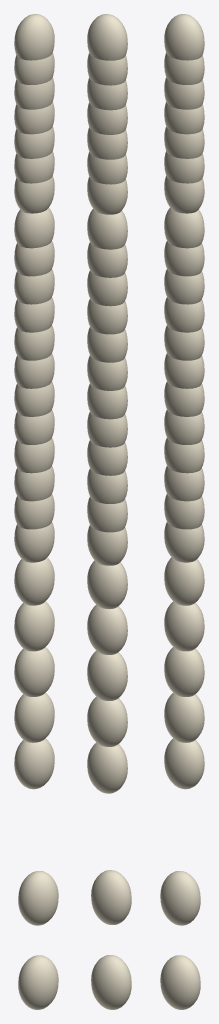
File: spine.glb
The picture shows the model from 3 angles, left to right: view 1: azimuth 30°, elevation 25°; view 2: azimuth 150°, elevation 25°; view 3: azimuth 330°, elevation 25°; orthographic projection.
Parts seen in each view (by area): view 1: dev-marker-sacrum, dev-marker-coccyx, dev-marker-l5, dev-marker-l2, dev-marker-l4, dev-marker-l3, dev-marker-c1, dev-marker-l1, dev-marker-t1, dev-marker-t12, dev-marker-c7, dev-marker-t6 (+14 smaller); view 2: dev-marker-coccyx, dev-marker-sacrum, dev-marker-l5, dev-marker-l4, dev-marker-l3, dev-marker-l2, dev-marker-c1, dev-marker-l1, dev-marker-t1, dev-marker-t12, dev-marker-c7, dev-marker-t5 (+14 smaller); view 3: dev-marker-sacrum, dev-marker-coccyx, dev-marker-l5, dev-marker-l2, dev-marker-l4, dev-marker-l3, dev-marker-c1, dev-marker-l1, dev-marker-t1, dev-marker-t12, dev-marker-c7, dev-marker-t6 (+14 smaller).
Part boxes in pixels (x1=…): dev-marker-sacrum: x1=18, y1=871, x2=58, y2=925; dev-marker-coccyx: x1=18, y1=955, x2=58, y2=1009; dev-marker-l5: x1=14, y1=738, x2=54, y2=789; dev-marker-l2: x1=14, y1=601, x2=54, y2=651; dev-marker-l4: x1=14, y1=692, x2=54, y2=742; dev-marker-l3: x1=14, y1=647, x2=54, y2=696; dev-marker-c1: x1=14, y1=14, x2=54, y2=60; dev-marker-l1: x1=14, y1=557, x2=54, y2=605; dev-marker-t1: x1=14, y1=208, x2=54, y2=248; dev-marker-t12: x1=14, y1=522, x2=54, y2=562; dev-marker-c7: x1=14, y1=176, x2=54, y2=213; dev-marker-t6: x1=14, y1=353, x2=54, y2=388; dev-marker-coccyx: x1=91, y1=955, x2=131, y2=1009; dev-marker-sacrum: x1=91, y1=870, x2=131, y2=924; dev-marker-l5: x1=87, y1=742, x2=127, y2=793; dev-marker-l4: x1=87, y1=696, x2=127, y2=746; dev-marker-l3: x1=87, y1=650, x2=127, y2=700; dev-marker-l2: x1=87, y1=604, x2=127, y2=654; dev-marker-c1: x1=87, y1=14, x2=127, y2=60; dev-marker-l1: x1=87, y1=560, x2=127, y2=609; dev-marker-t1: x1=87, y1=209, x2=127, y2=249; dev-marker-t12: x1=87, y1=525, x2=127, y2=565; dev-marker-c7: x1=87, y1=177, x2=127, y2=214; dev-marker-t5: x1=87, y1=327, x2=127, y2=362; dev-marker-sacrum: x1=160, y1=871, x2=200, y2=925; dev-marker-coccyx: x1=160, y1=955, x2=200, y2=1009; dev-marker-l5: x1=164, y1=738, x2=204, y2=789; dev-marker-l2: x1=164, y1=601, x2=204, y2=651; dev-marker-l4: x1=164, y1=692, x2=204, y2=742; dev-marker-l3: x1=164, y1=647, x2=204, y2=696; dev-marker-c1: x1=164, y1=14, x2=204, y2=60; dev-marker-l1: x1=164, y1=557, x2=204, y2=605; dev-marker-t1: x1=164, y1=208, x2=204, y2=248; dev-marker-t12: x1=164, y1=522, x2=204, y2=562; dev-marker-c7: x1=164, y1=176, x2=204, y2=213; dev-marker-t6: x1=164, y1=353, x2=204, y2=388.
Bounding box in the file's own units: 0.11 × 2.82 × 0.11.
